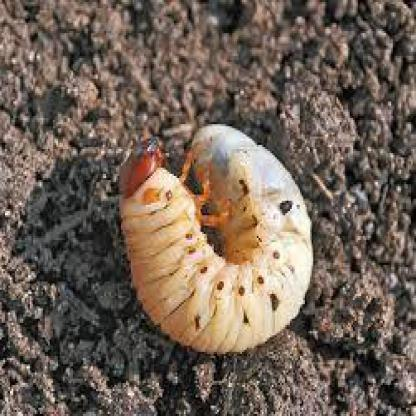root grubs: (116, 125, 315, 357)
